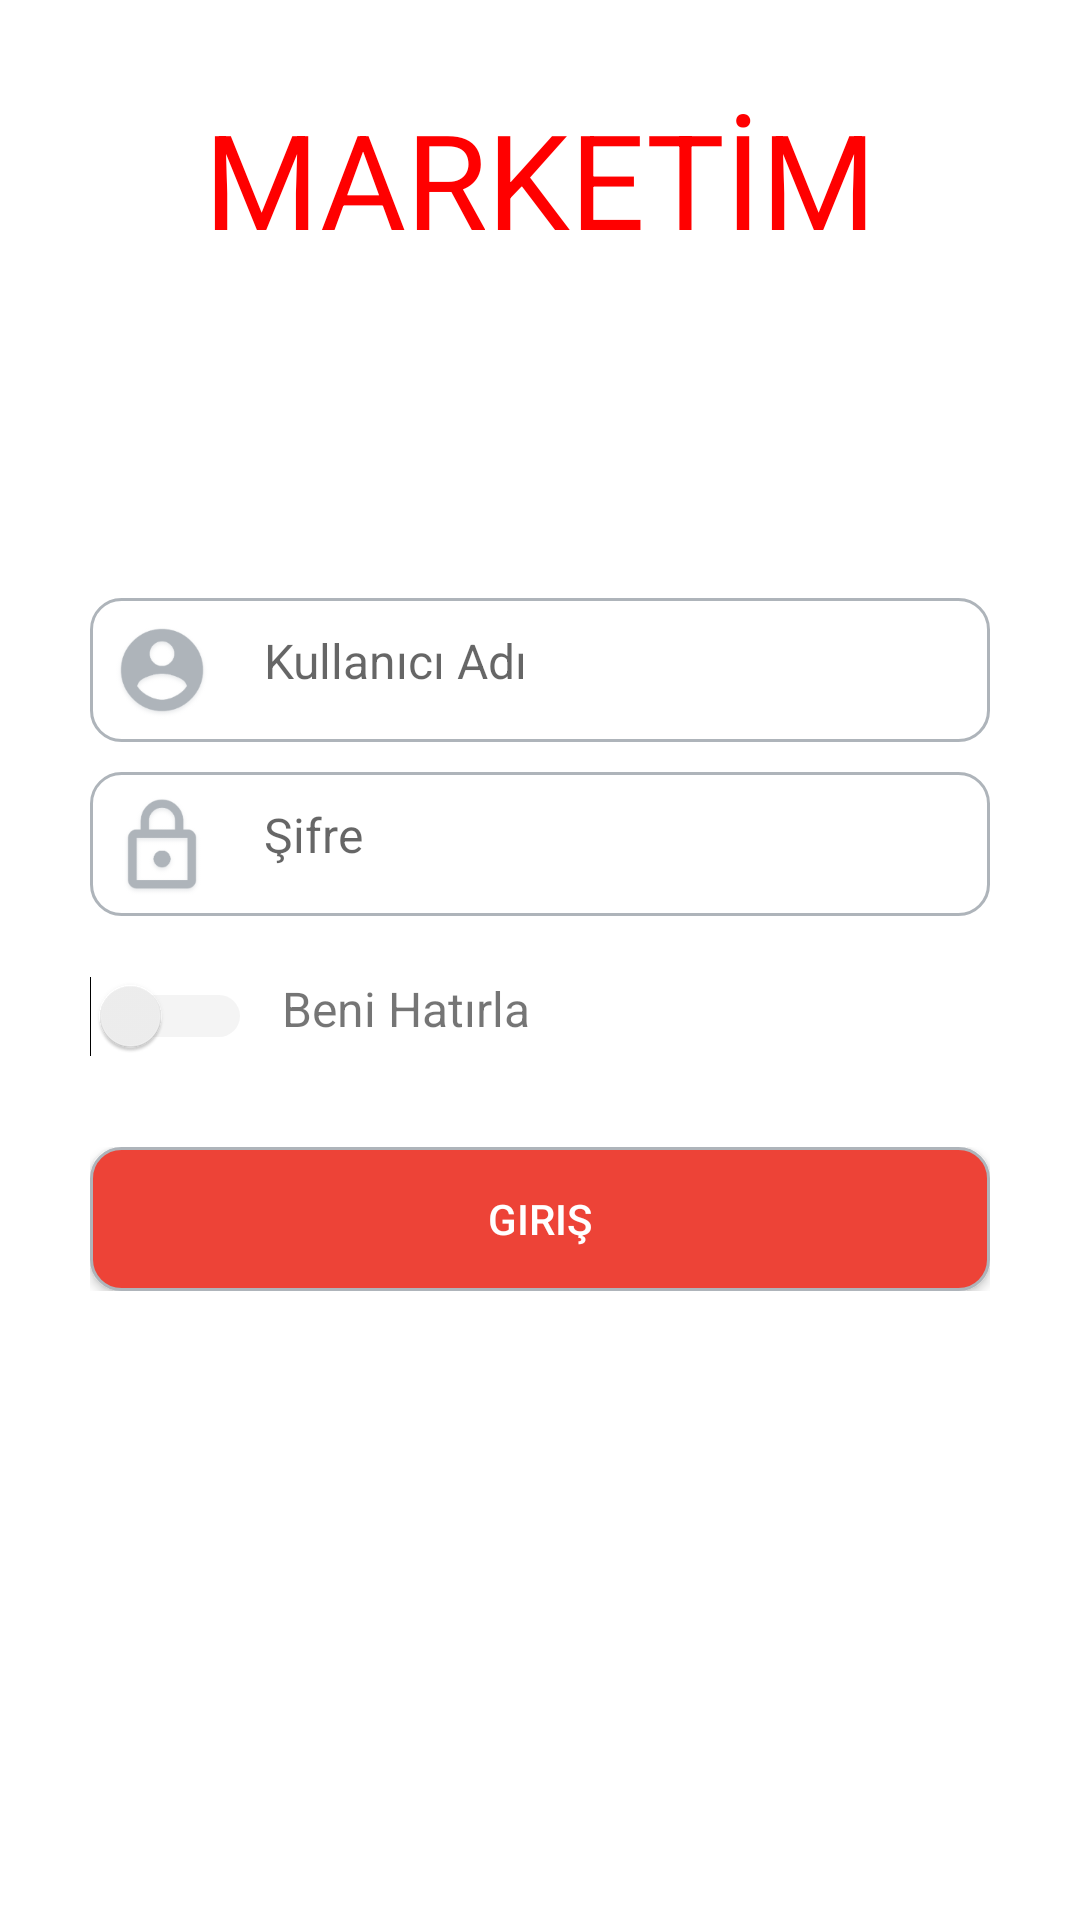

Icon click points for this 1080px x 1920px phone screenshot, format [x,y]:
password: [162,844]
user: [162,670]
